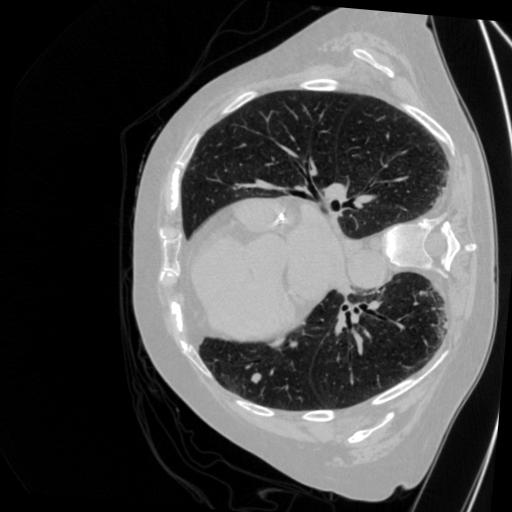nodule: (248, 369, 264, 385)
